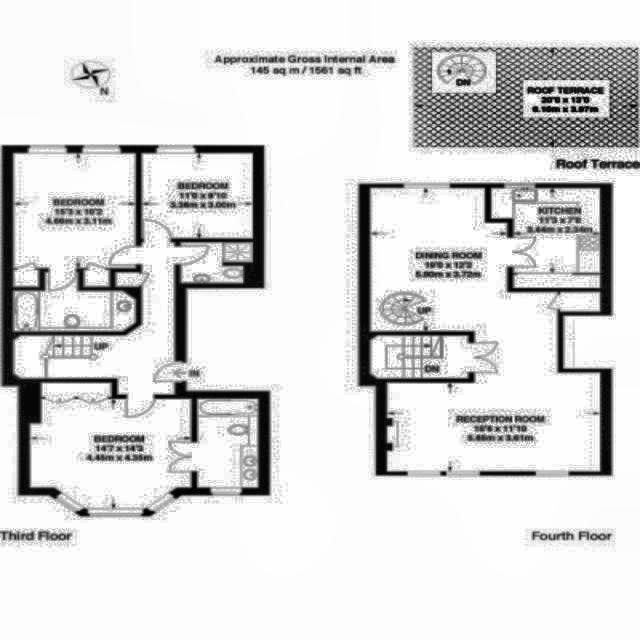room: (370, 188, 601, 374), (12, 241, 177, 395), (386, 373, 602, 473), (29, 382, 192, 509), (12, 152, 136, 290), (492, 188, 601, 288), (140, 152, 253, 239), (197, 398, 261, 488), (13, 290, 136, 332), (369, 335, 469, 379), (179, 242, 253, 284)
